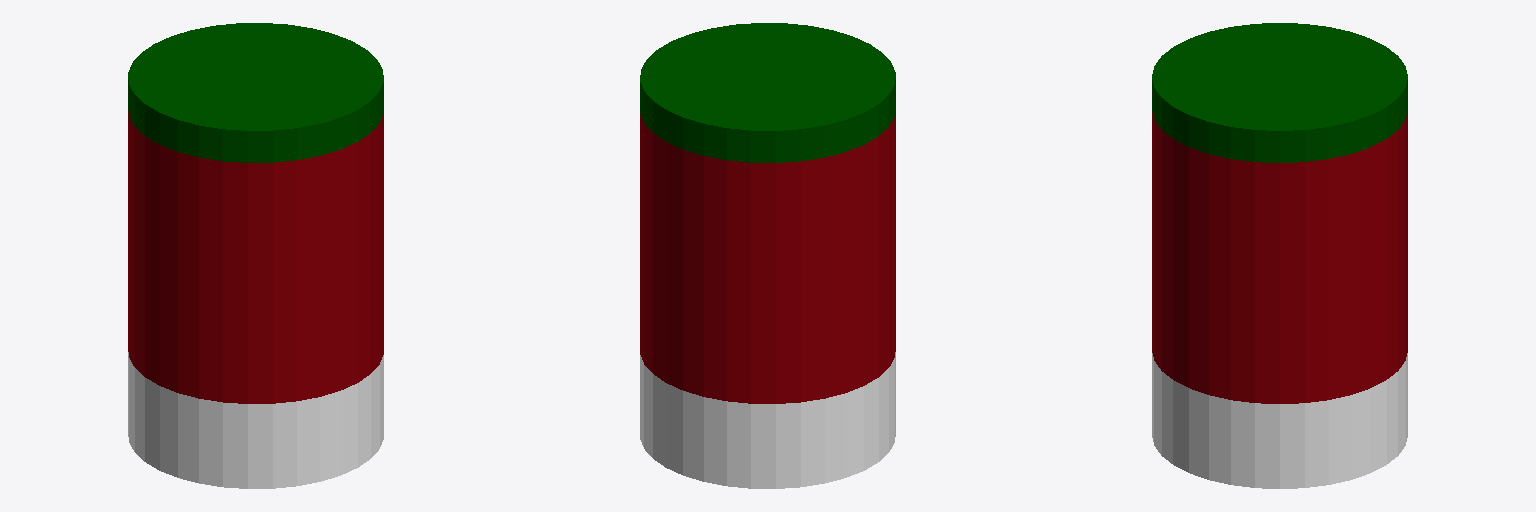
Rendered from seedBagTurnip.obj.
3 renders of one model, left to right at view 1: azimuth 30°, elevation 25°; view 2: azimuth 150°, elevation 25°; view 3: azimuth 270°, elevation 25°, orthographic.
Visible parts, largest first — view 1: Cylinder; view 2: Cylinder; view 3: Cylinder.
Part boxes in pixels (x1,y1,x2,y2): Cylinder: (128,23,383,488); Cylinder: (640,23,895,488); Cylinder: (1152,23,1407,488).
Size of the model in its own units: 2 by 3.08 by 2.